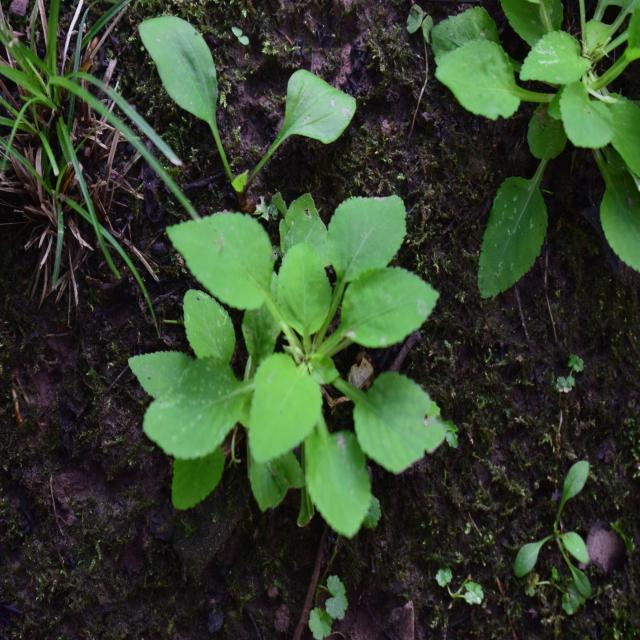Viola: (139, 178, 457, 526)
